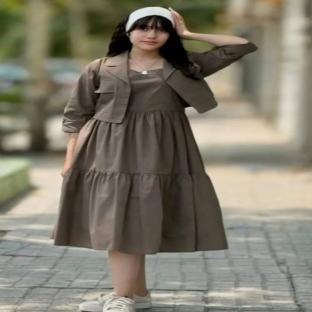Human: (51, 6, 257, 312)
